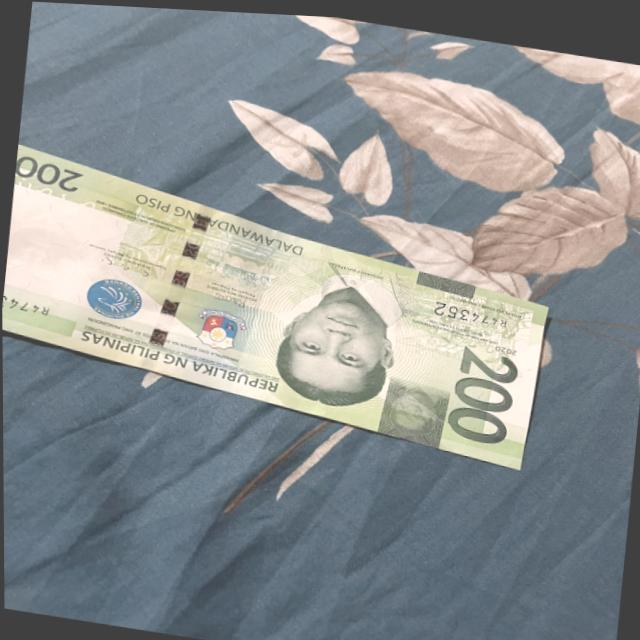concealed_value: (376, 371, 450, 445)
security_thread: (136, 201, 216, 369)
see_through_mark: (12, 175, 99, 214)
serial_number: (430, 293, 512, 326)
value: (444, 335, 521, 445)
